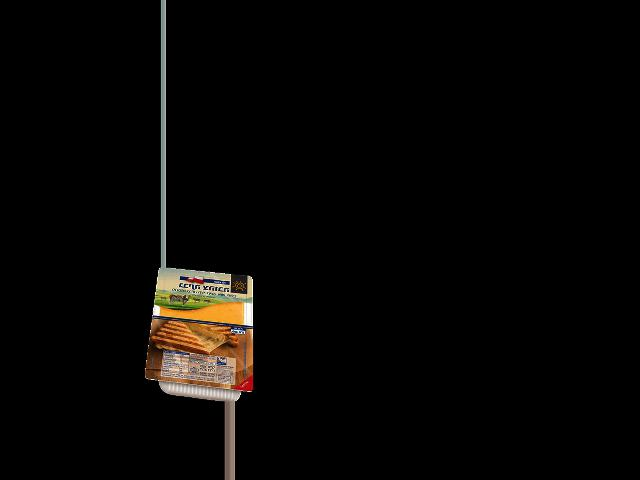cheese: (147, 268, 248, 402)
